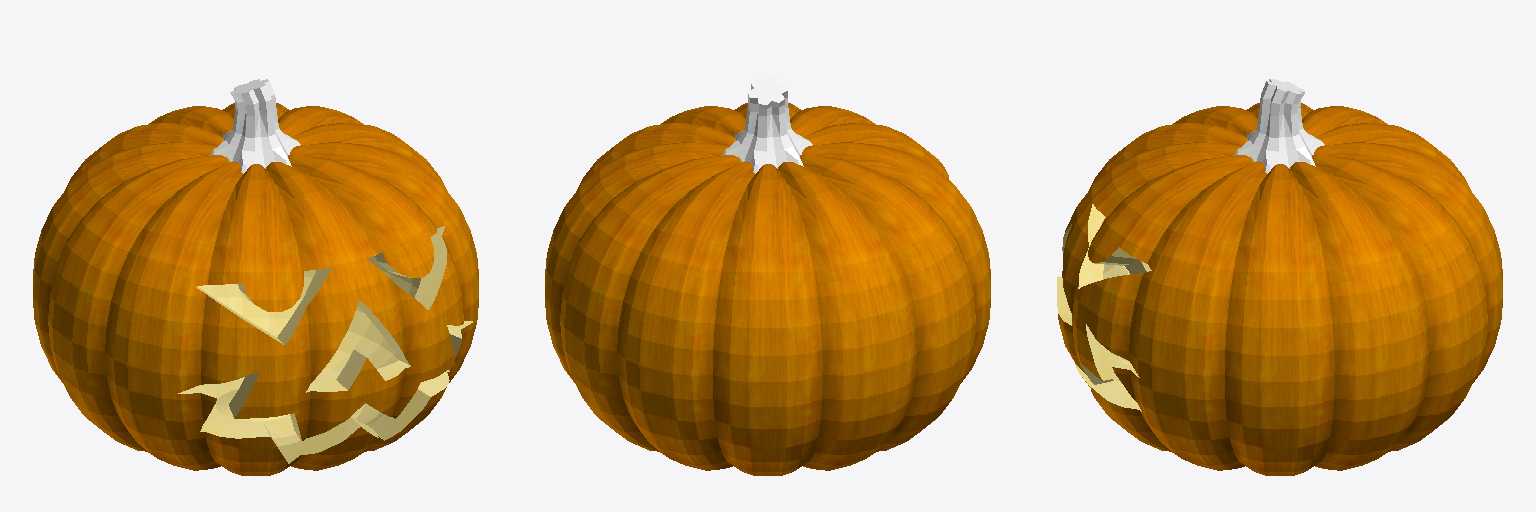
The picture shows the model from 3 angles: view 1: azimuth 30°, elevation 25°; view 2: azimuth 150°, elevation 25°; view 3: azimuth 270°, elevation 25°; orthographic projection.
Parts seen in each view (by area): view 1: PumpkinB_001; view 2: PumpkinB_001; view 3: PumpkinB_001.
Part boxes in pixels (x1,y1,x2,y2): PumpkinB_001: (33,79,478,475); PumpkinB_001: (545,77,990,475); PumpkinB_001: (1057,79,1502,475).
Size of the model in its own units: 105 by 90.11 by 105.
4 materials, 2 textured.